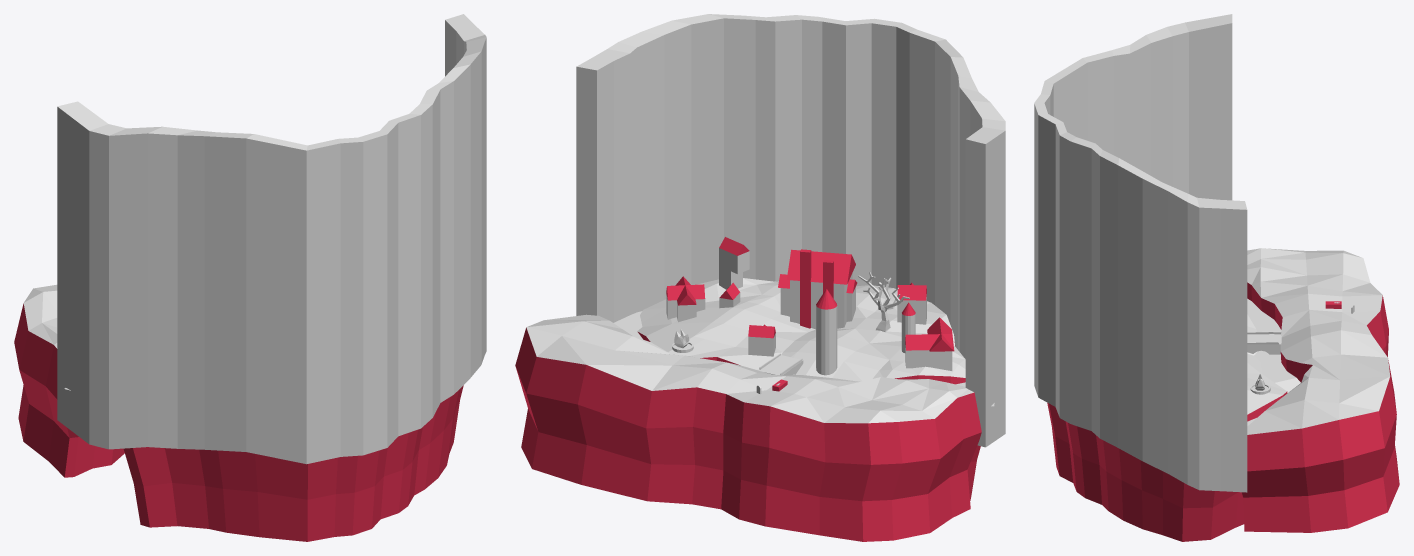
The model's file is LevelAssets.fbx.
The picture shows the model from 3 angles, left to right: view 1: azimuth 30°, elevation 25°; view 2: azimuth 150°, elevation 25°; view 3: azimuth 270°, elevation 25°; orthographic projection. The views are drawn at different scales.
Visible parts, largest first — view 1: Paredao, VilaPlanice, VilaMorro; view 2: Paredao, VilaMorro, VilaPlanice, CasaPrincipal, CasaL, Torre, CasaX, CasaF, 01_casa.002, Arvore, CasaT, Ponte; view 3: Paredao, VilaMorro, VilaPlanice, Agua, Ponte.
Part boxes in pixels (box(x1,y1,x2,y2)): Paredao: box(57, 14, 486, 464); VilaPlanice: box(123, 385, 463, 541); VilaMorro: box(14, 284, 124, 477); Paredao: box(576, 14, 1005, 447); VilaMorro: box(515, 314, 981, 541); VilaPlanice: box(637, 278, 980, 500); CasaPrincipal: box(778, 249, 857, 329); CasaL: box(905, 317, 954, 370); Torre: box(816, 288, 837, 375); CasaX: box(666, 276, 705, 322); CasaF: box(719, 237, 749, 289); 01_casa.002: box(897, 282, 926, 324); Arvore: box(858, 272, 909, 331); CasaT: box(748, 324, 775, 356); Ponte: box(758, 353, 803, 374); Paredao: box(1034, 14, 1247, 492); VilaMorro: box(1242, 248, 1399, 532); VilaPlanice: box(1047, 314, 1287, 541); Agua: box(1247, 298, 1300, 425); Ponte: box(1247, 331, 1281, 354).
Bounding box in the file's own units: 12341 × 11252 × 10118.
